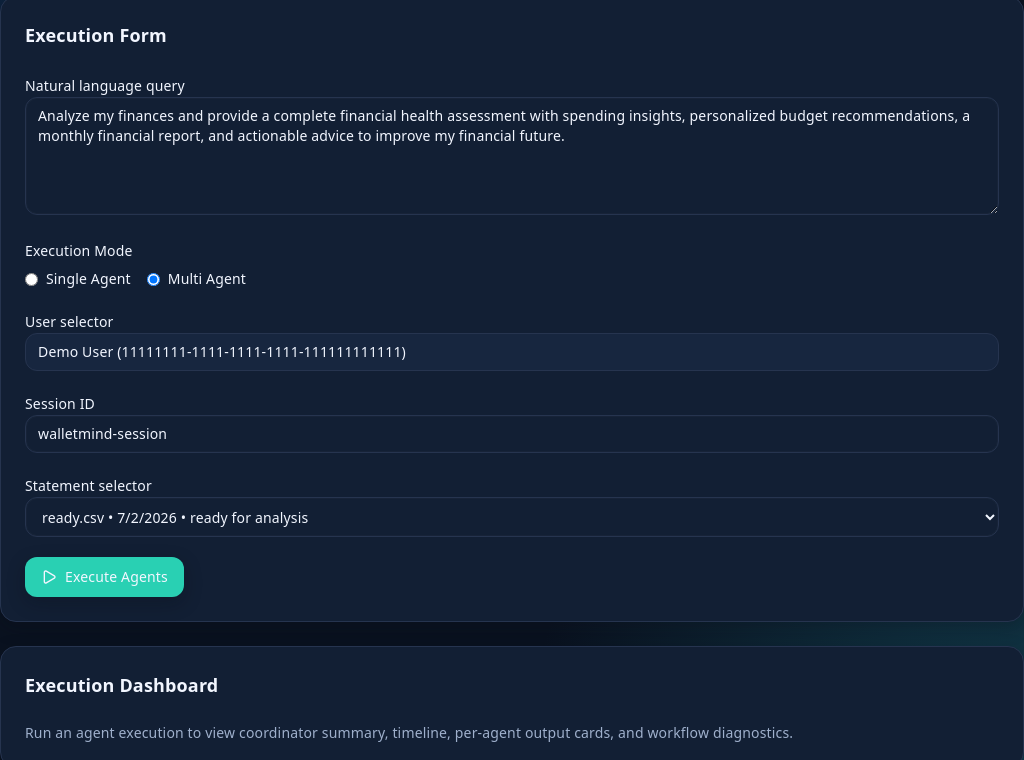
Test: AppAgentPlaygroundPage - Sprint 2.3.4 › does not auto-scroll on failed network requests
(page scrolled)
Click the button "Execute Agents".
click(104, 577)  # box [25,557,184,597]
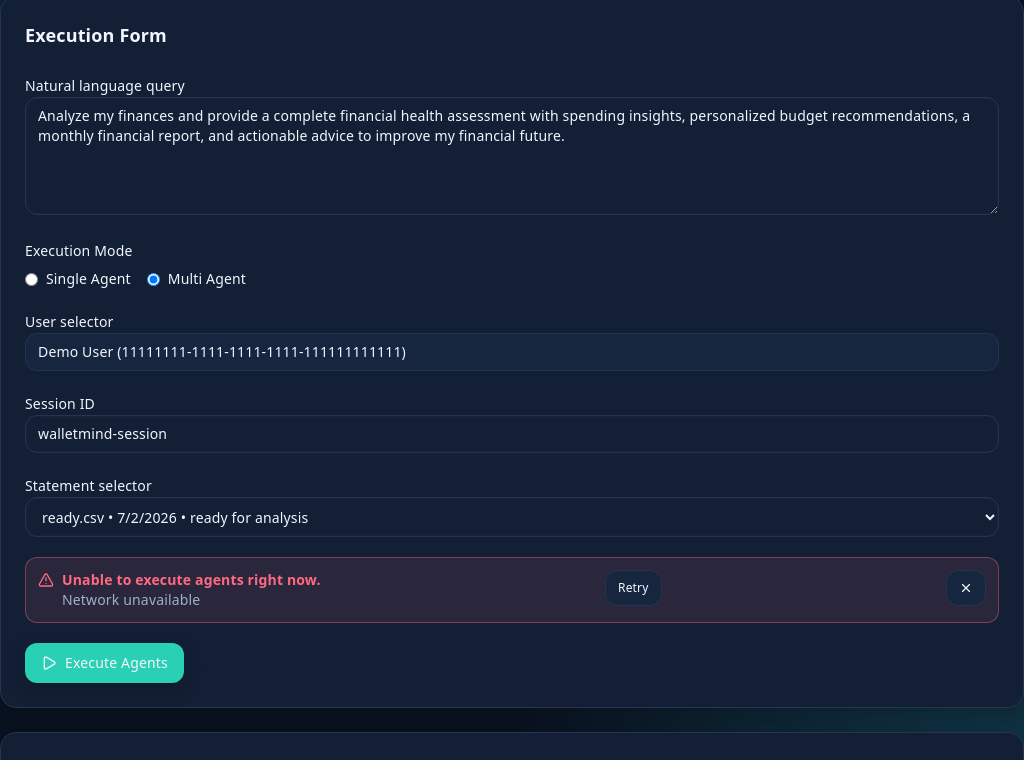
Check: the text "Unable to execute agents right now." is shown, box [62,570,321,590]
